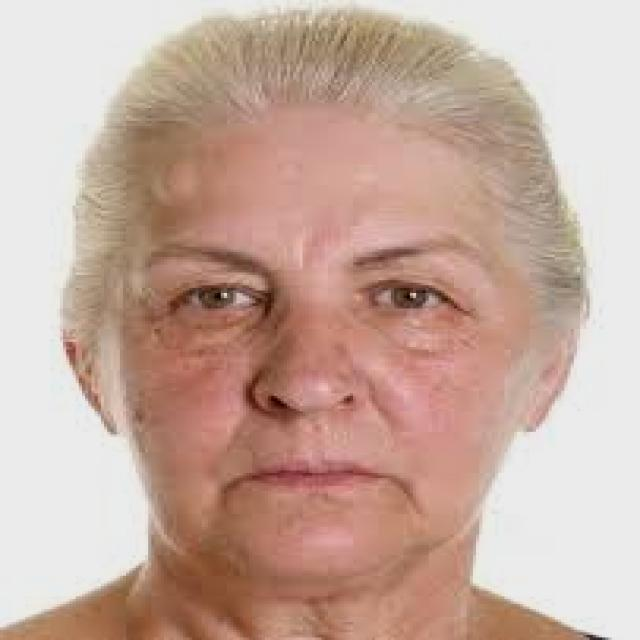normal_face: (110, 23, 492, 616)
